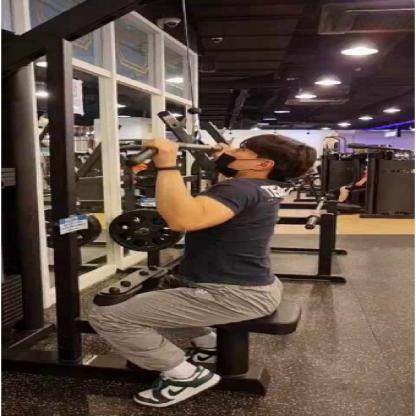Lat Pull Down: (0, 0, 335, 416)
